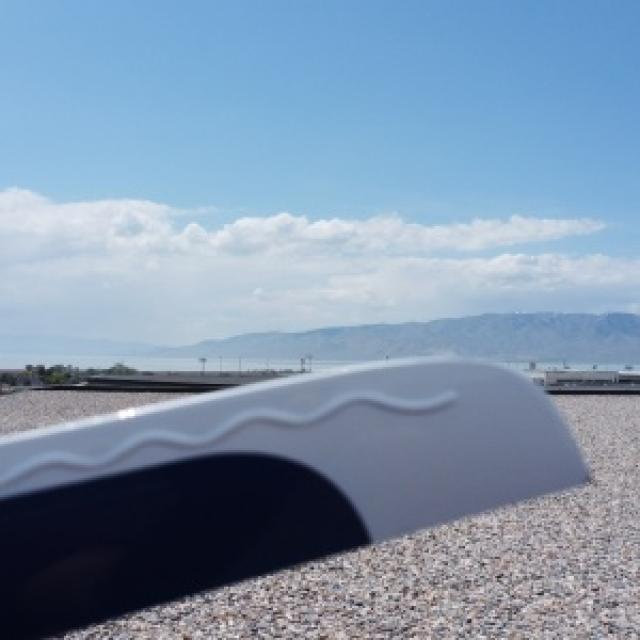healthy: (0, 358, 587, 638)
